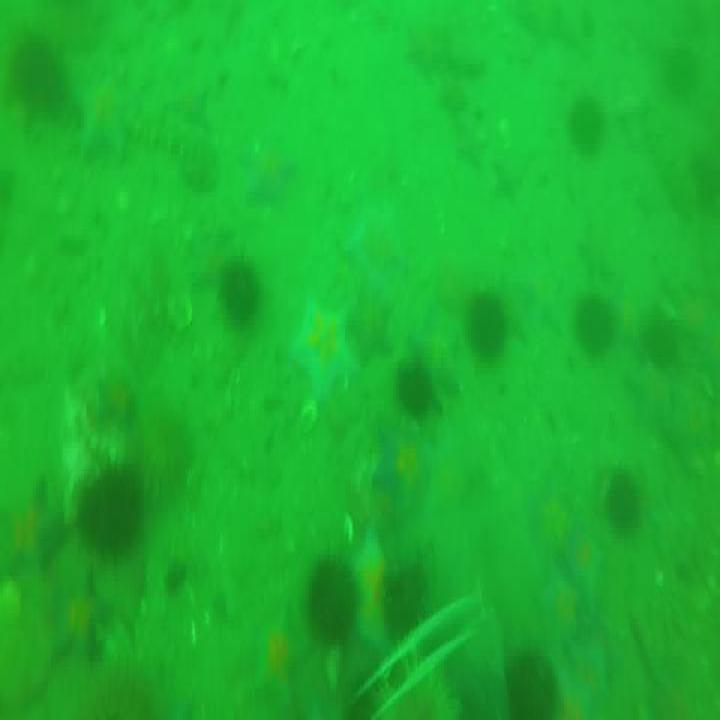echinus: (13, 38, 81, 132), (82, 464, 136, 553), (378, 555, 427, 645), (308, 554, 355, 644), (504, 659, 558, 720), (394, 352, 441, 420), (606, 467, 644, 540), (467, 295, 509, 356), (574, 290, 616, 350), (570, 91, 606, 158), (223, 258, 257, 324), (641, 318, 683, 366)
scallop: (168, 294, 194, 332), (299, 400, 320, 434)
starfish: (281, 298, 360, 395), (43, 569, 116, 668), (343, 195, 409, 300), (526, 471, 592, 576), (0, 473, 61, 585), (368, 423, 428, 530), (68, 71, 137, 158), (559, 629, 612, 720), (244, 135, 295, 213), (540, 573, 581, 647)
